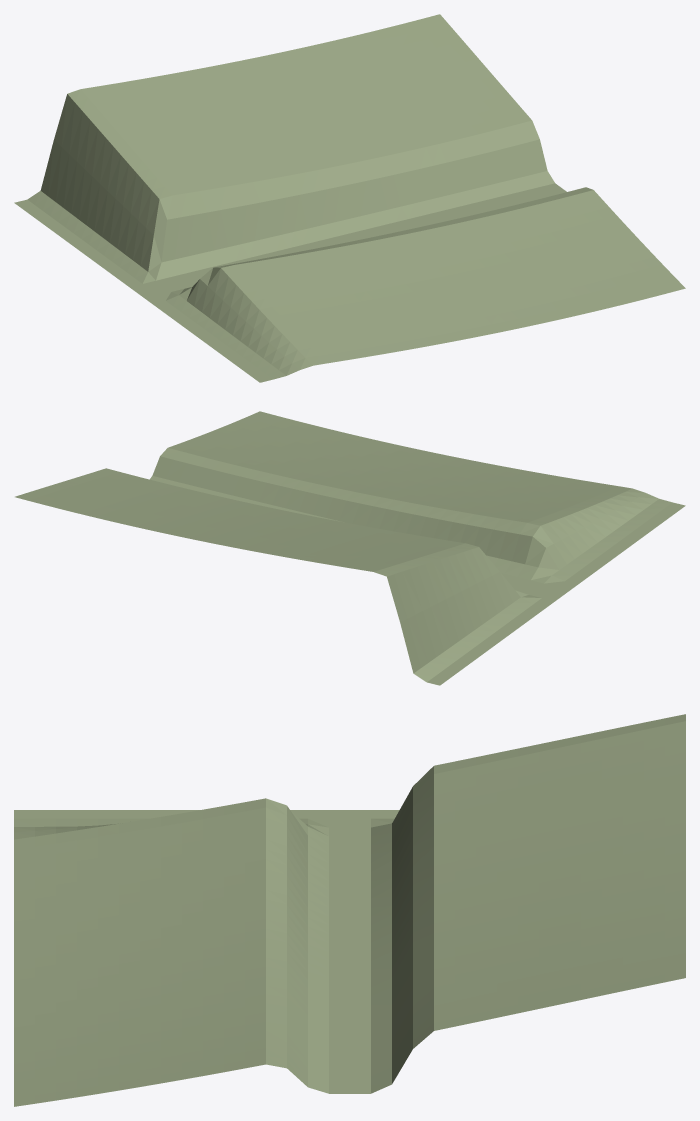
File: valley-8-2.glb
3 renders of one model, top to bottom at view 1: azimuth 30°, elevation 25°; view 2: azimuth 150°, elevation 25°; view 3: azimuth 270°, elevation 25°, orthographic. The views are drawn at different scales.
Parts seen in each view (by area): view 1: valley-8-2; view 2: valley-8-2; view 3: valley-8-2.
Boxes of the visible parts, <box> form: valley-8-2: <box>14,14,685,382</box>; valley-8-2: <box>15,411,685,685</box>; valley-8-2: <box>14,714,685,1106</box>.
Size of the model in its own units: 256 by 61.94 by 256.
